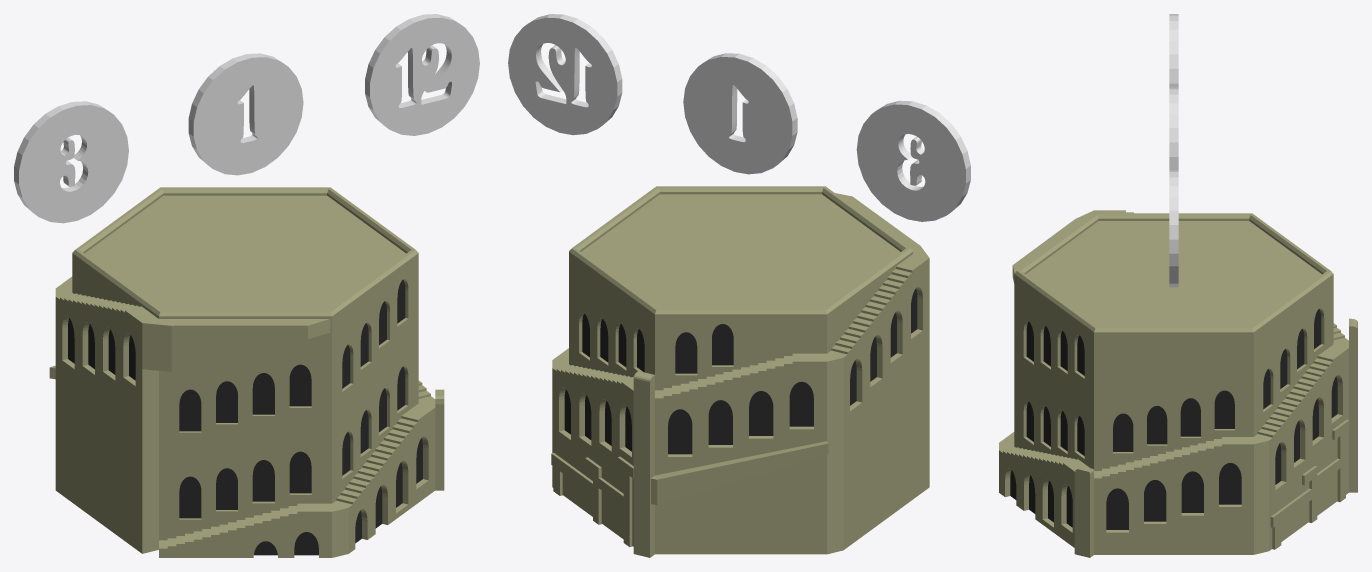
3 renders of one model, left to right at view 1: azimuth 30°, elevation 25°; view 2: azimuth 150°, elevation 25°; view 3: azimuth 270°, elevation 25°, orthographic. The views are drawn at different scales.
Parts seen in each view (by area): view 1: VAVILONE.001, COIN1, COIN3, COIN12; view 2: VAVILONE.001, COIN1, COIN3, COIN12; view 3: VAVILONE.001, COIN12, COIN1, COIN3.
Part boxes in pixels (x1=…): VAVILONE.001: x1=49, y1=187, x2=444, y2=557; COIN1: x1=188, y1=53, x2=303, y2=175; COIN3: x1=14, y1=101, x2=128, y2=223; COIN12: x1=365, y1=14, x2=479, y2=135; VAVILONE.001: x1=551, y1=186, x2=929, y2=557; COIN1: x1=683, y1=53, x2=797, y2=174; COIN3: x1=856, y1=100, x2=970, y2=221; COIN12: x1=508, y1=14, x2=622, y2=135; VAVILONE.001: x1=999, y1=210, x2=1357, y2=557; COIN12: x1=1169, y1=170, x2=1178, y2=287; COIN1: x1=1169, y1=87, x2=1178, y2=170; COIN3: x1=1169, y1=14, x2=1178, y2=87.
Size of the model in its own units: 5.22 by 4.66 by 3.82.
